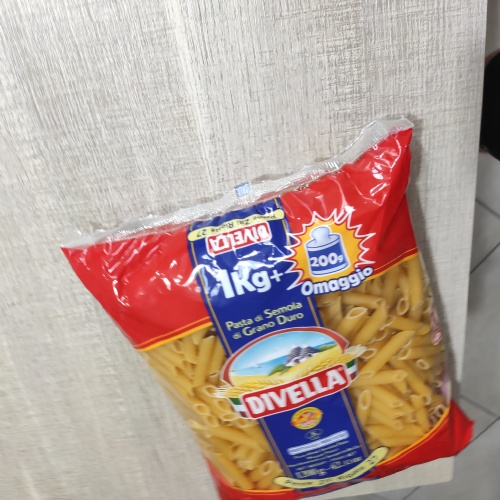pasta: (101, 182, 473, 479)
